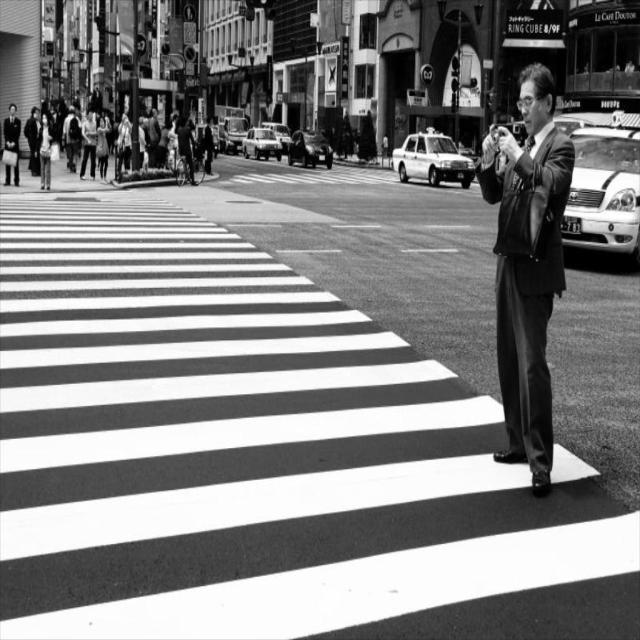car: (390, 127, 476, 185), (243, 124, 287, 156)
